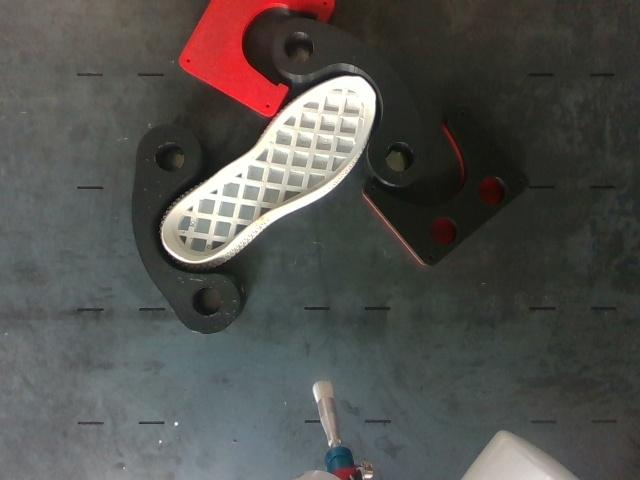shoes: (161, 77, 375, 262)
